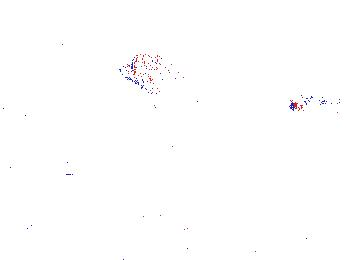X-ray fish: (117, 44, 194, 97)
red belly glassfish: (288, 95, 321, 114), (148, 95, 163, 114)
redtail glassfish: (195, 6, 273, 42), (288, 83, 346, 111), (305, 20, 346, 49)
